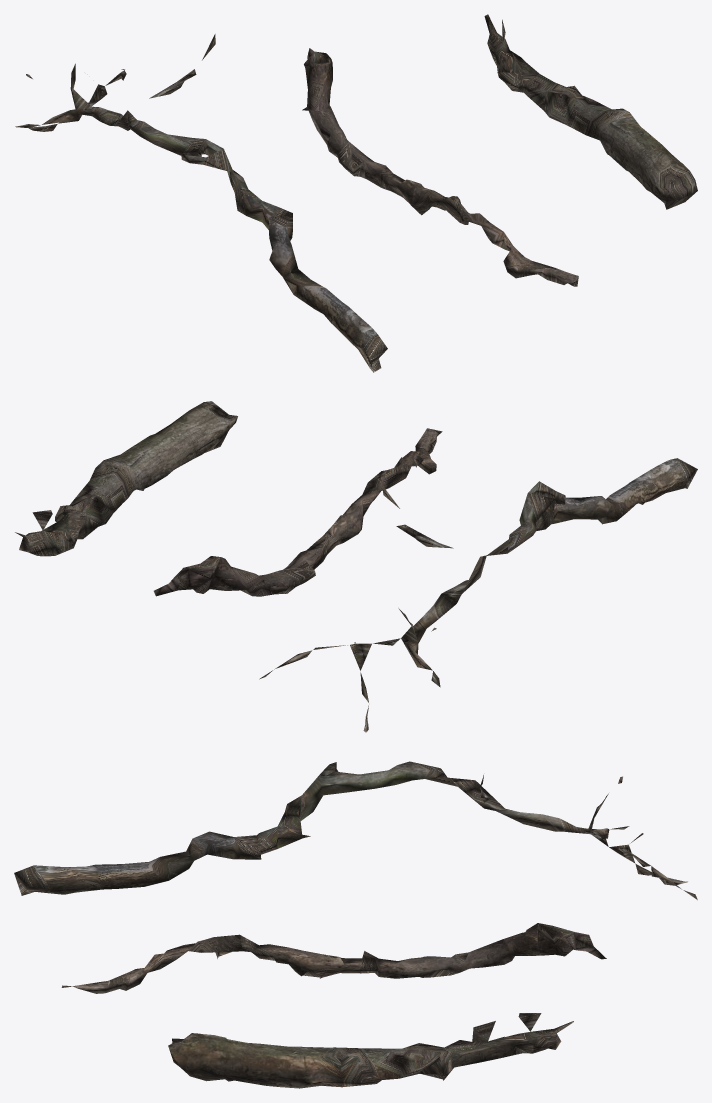
The model's file is lg-p-branches.glb.
The picture shows the model from 3 angles, top to bottom: view 1: azimuth 30°, elevation 25°; view 2: azimuth 150°, elevation 25°; view 3: azimuth 270°, elevation 25°; orthographic projection.
Visible parts, largest first — view 1: dry_branches_medium_01_a, dry_branches_medium_01_c, dry_branches_medium_01_b; view 2: dry_branches_medium_01_c, dry_branches_medium_01_a, dry_branches_medium_01_b; view 3: dry_branches_medium_01_c, dry_branches_medium_01_a, dry_branches_medium_01_b.
Part boxes in pixels (left/top/right/bottom): dry_branches_medium_01_a: left=15, top=34, right=387, bottom=372; dry_branches_medium_01_c: left=484, top=14, right=697, bottom=209; dry_branches_medium_01_b: left=302, top=48, right=578, bottom=286; dry_branches_medium_01_c: left=15, top=401, right=237, bottom=556; dry_branches_medium_01_a: left=259, top=458, right=697, bottom=732; dry_branches_medium_01_b: left=153, top=428, right=442, bottom=596; dry_branches_medium_01_c: left=168, top=1013, right=573, bottom=1088; dry_branches_medium_01_a: left=14, top=761, right=697, bottom=900; dry_branches_medium_01_b: left=61, top=923, right=606, bottom=993.
Size of the model in its own units: 1.05 by 0.3264 by 1.29.
Materials: 1 (1 with a texture image).
